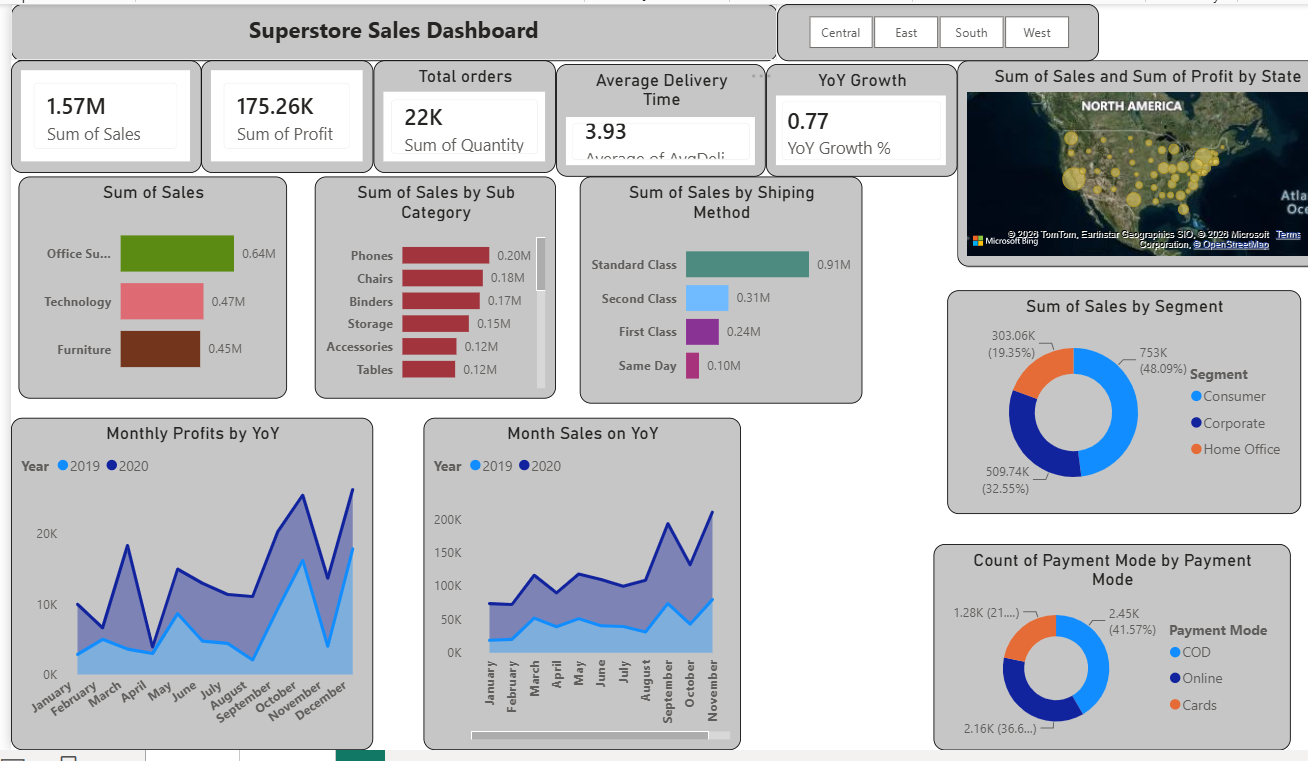

The dashboard page shown, as its layout file describes it:
{"tool":"powerbi","page":{"name":"Page 1","canvas":[1280,720],"ordinal":0},"visuals":[{"type":"clusteredBarChart","title":"Sum of Sales ","fields":{"Category":["SuperStore_Sales_Dataset.Category"],"Y":["Sum(SuperStore_Sales_Dataset.Sales)"]},"box":[7.2,166.5,259.4,214.7],"z":0},{"type":"clusteredBarChart","title":"Sum of Sales  by Sub Category","fields":{"Y":["Sum(SuperStore_Sales_Dataset.Sales)"],"Category":["SuperStore_Sales_Dataset.Sub-Category"]},"box":[293.2,166.5,232.8,214.7],"z":1000},{"type":"clusteredBarChart","title":"Sum of Sales  by Shiping Method","fields":{"Y":["Sum(SuperStore_Sales_Dataset.Sales)"],"Category":["SuperStore_Sales_Dataset.Ship Mode"]},"box":[548.9,166.5,272.7,219.6],"z":2000},{"type":"stackedAreaChart","title":"Month Sales on YoY","fields":{"Y":["Sum(SuperStore_Sales_Dataset.Sales)"],"Category":["SuperStore_Sales_Dataset.Order Date.Variation.Date Hierarchy.Month","SuperStore_Sales_Dataset.Order Date.Variation.Date Hierarchy.Day"],"Series":["SuperStore_Sales_Dataset.Order Date.Variation.Date Hierarchy.Year"]},"box":[398.1,399.3,306.4,320.9],"z":3000},{"type":"stackedAreaChart","title":"Monthly Profits by YoY","fields":{"Category":["SuperStore_Sales_Dataset.Order Date.Variation.Date Hierarchy.Month","SuperStore_Sales_Dataset.Order Date.Variation.Date Hierarchy.Day"],"Series":["SuperStore_Sales_Dataset.Order Date.Variation.Date Hierarchy.Year"],"Y":["Sum(SuperStore_Sales_Dataset.Profit)"]},"box":[0,399.3,349.9,320.9],"z":4000},{"type":"map","fields":{"Category":["SuperStore_Sales_Dataset.State"],"Size":["Sum(SuperStore_Sales_Dataset.Sales)"]},"box":[913.3,54.3,366.8,199.1],"z":5000},{"type":"donutChart","fields":{"Category":["SuperStore_Sales_Dataset.Segment"],"Y":["Sum(SuperStore_Sales_Dataset.Sales)"]},"box":[903.6,276.3,341.4,216],"z":6000},{"type":"slicer","fields":{"Values":["SuperStore_Sales_Dataset.Region"]},"box":[739.6,0,310.1,54.9],"z":7000},{"type":"donutChart","fields":{"Category":["SuperStore_Sales_Dataset.Payment Mode"],"Y":["CountNonNull(SuperStore_Sales_Dataset.Payment Mode)"]},"box":[890.6,521.4,344.4,199],"z":8000},{"type":"textbox","box":[0,0,739.6,54.9],"z":9000},{"type":"cardVisual","fields":{"Data":["Sum(SuperStore_Sales_Dataset.Profit)"]},"box":[183.9,54.9,166,108.4],"z":10000},{"type":"cardVisual","title":"Total orders","fields":{"Data":["Sum(SuperStore_Sales_Dataset.Quantity)"]},"box":[349.9,54.3,176.1,108.6],"z":11000},{"type":"cardVisual","fields":{"Data":["Sum(SuperStore_Sales_Dataset.Sales)"]},"box":[0,54.9,183.9,108.4],"z":12000},{"type":"cardVisual","title":"Average Delivery Time","fields":{"Data":["Avg(SuperStore_Sales_Dataset.AvgDelivery)"]},"box":[526,57.9,202.7,108.6],"z":13000},{"type":"cardVisual","title":"YoY Growth","fields":{"Data":["Sales_forecast.YoY Growth %"]},"box":[728.7,57.9,184.6,108.6],"z":13001}]}

Visuals, with their boxes in screenshot pixels (x1, y1, x2, y2):
"Sum of Sales " clusteredBarChart: [11,171,282,395]
"Sum of Sales  by Sub Category" clusteredBarChart: [310,171,553,395]
"Sum of Sales  by Shiping Method" clusteredBarChart: [577,171,862,400]
"Month Sales on YoY" stackedAreaChart: [419,414,739,749]
"Monthly Profits by YoY" stackedAreaChart: [3,414,369,749]
map - SuperStore_Sales_Dataset.State x Sum(SuperStore_Sales_Dataset.Sales): [958,53,1307,261]
donutChart - SuperStore_Sales_Dataset.Segment x Sum(SuperStore_Sales_Dataset.Sales): [947,285,1304,511]
slicer - SuperStore_Sales_Dataset.Region: [776,0,1100,54]
donutChart - SuperStore_Sales_Dataset.Payment Mode x CountNonNull(SuperStore_Sales_Dataset.Payment Mode): [934,541,1294,749]
textbox: [3,0,776,54]
cardVisual - Sum(SuperStore_Sales_Dataset.Profit): [196,54,369,167]
"Total orders" cardVisual: [369,53,553,167]
cardVisual - Sum(SuperStore_Sales_Dataset.Sales): [3,54,196,167]
"Average Delivery Time" cardVisual: [553,57,765,171]
"YoY Growth" cardVisual: [765,57,958,171]
